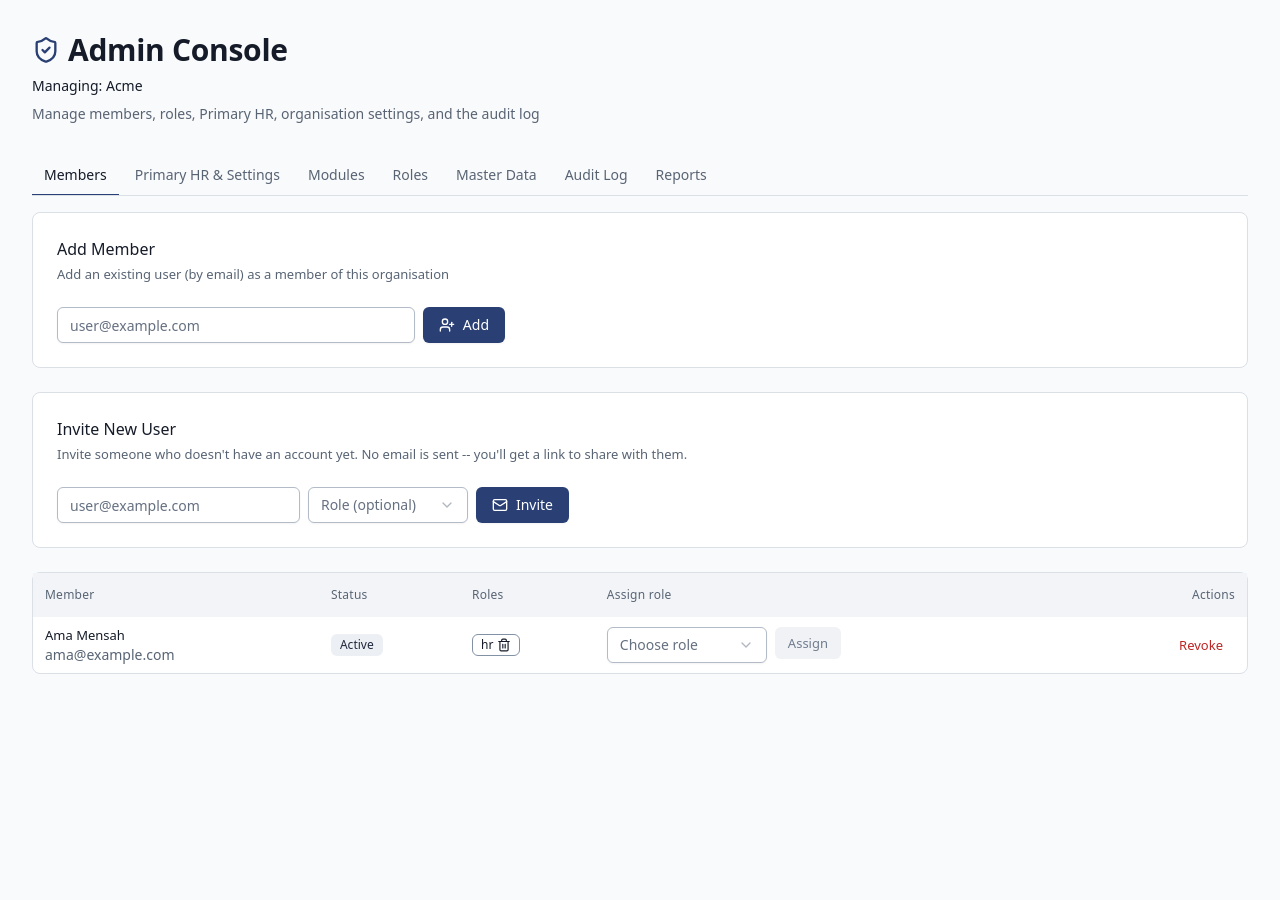
Test: Admin console — disabling a module › asks before disabling, runs nothing on Cancel, and disables exactly once on confirm
The width and height of the screenshot is (1280, 900).
Click the tab with test id "tab-modules": x=336, y=176 [296, 156, 377, 196]
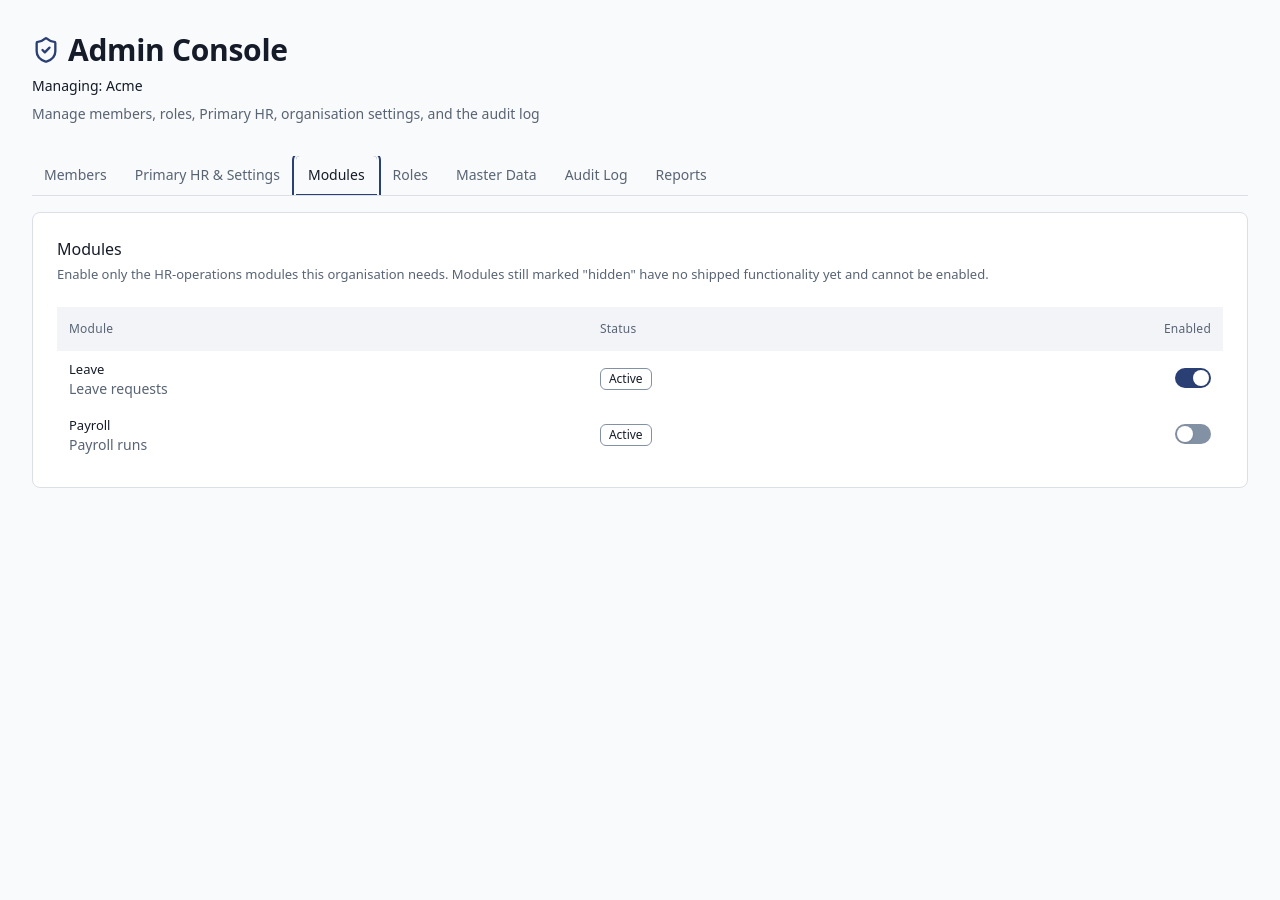
Click the switch with test id "switch-module-leave": x=1193, y=378 [1175, 368, 1211, 388]
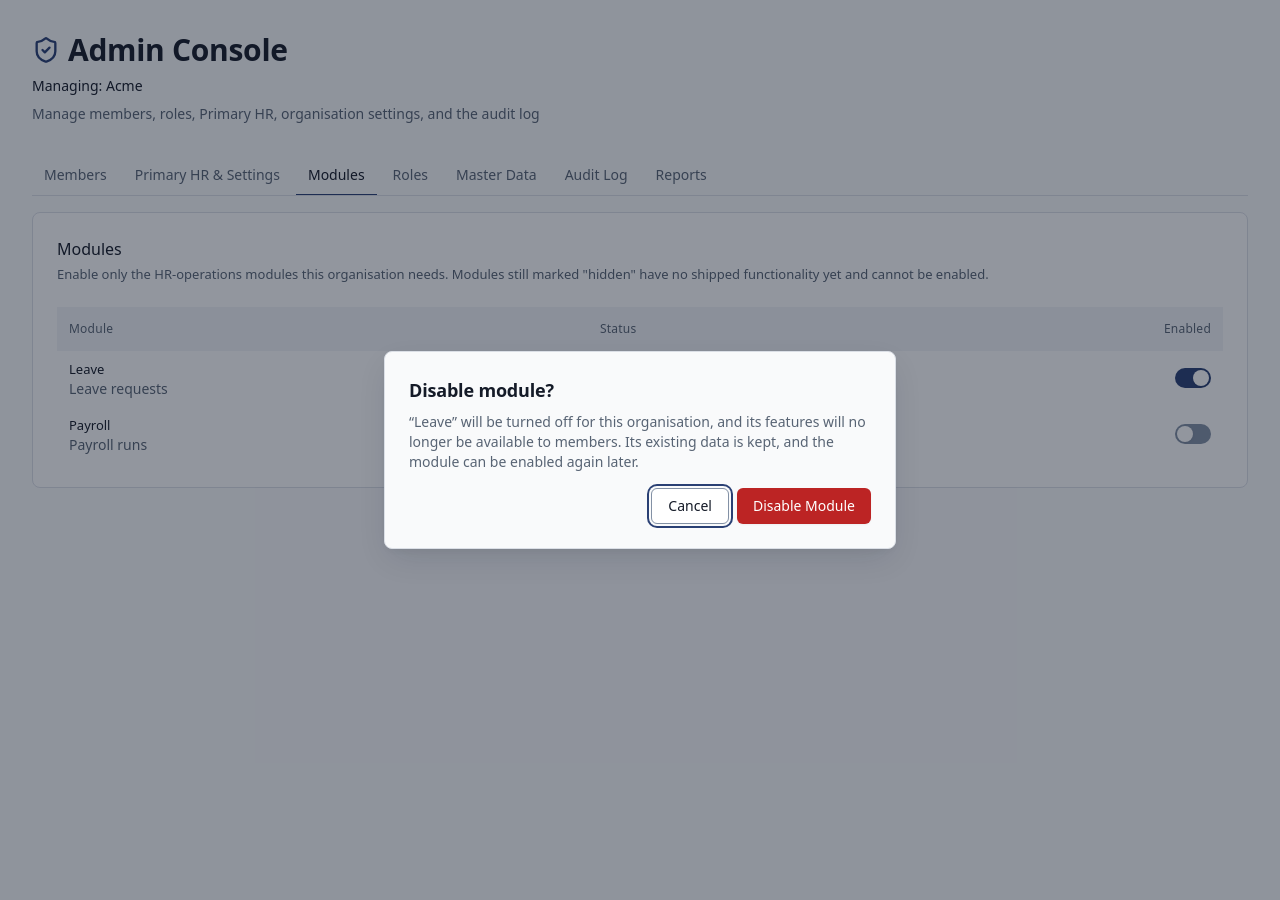
Result: the dialog with test id "dialog-disable-module" shows "Disable module?" at [409, 378, 554, 402]
Result: the dialog with test id "dialog-disable-module" shows "“Leave” will be turned off for this organisation" at [384, 351, 896, 549]
Result: the dialog with test id "dialog-disable-module" shows "Its existing data is kept" at [409, 412, 866, 471]
Click the button "Cancel": x=690, y=506 [651, 488, 729, 524]
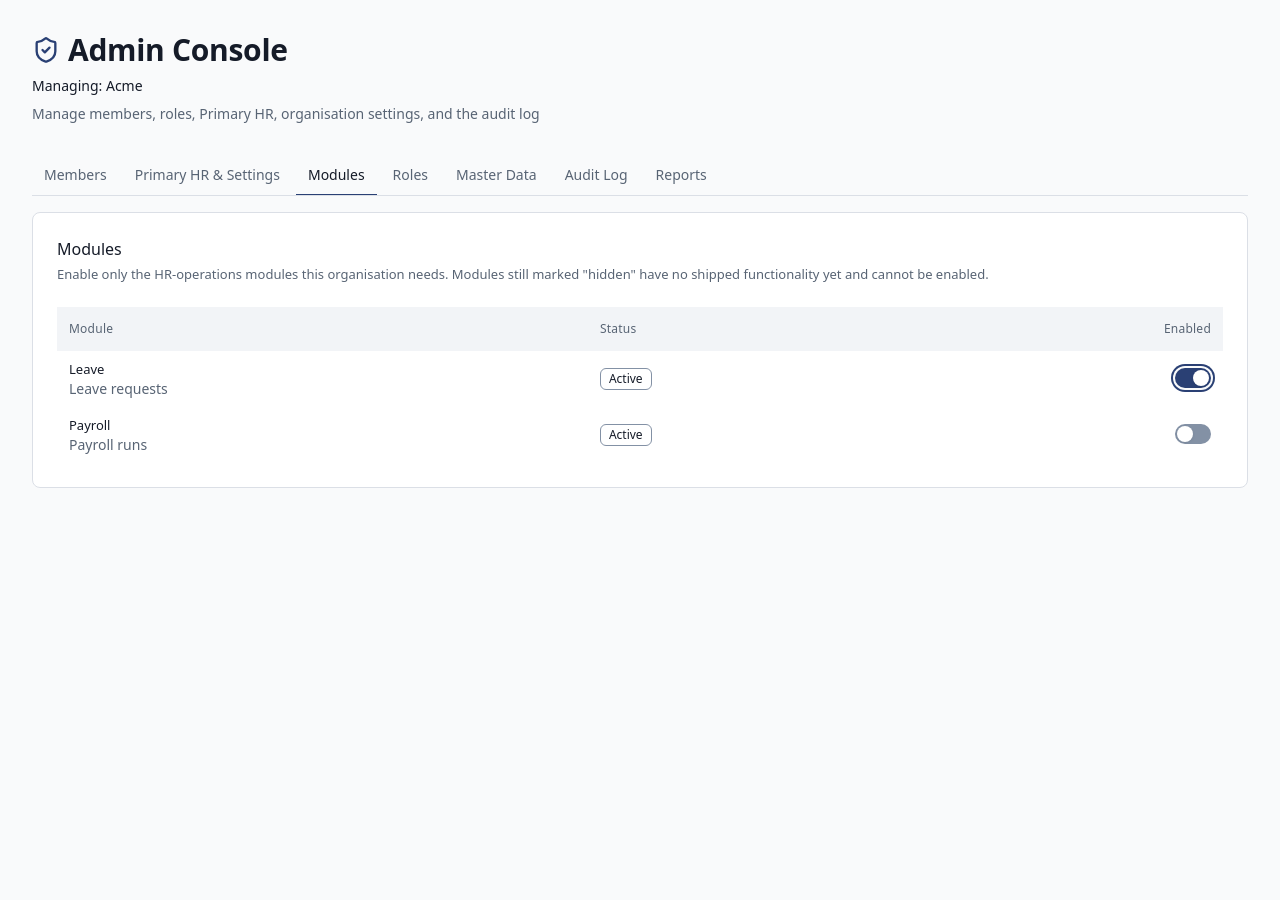
Result: the dialog with test id "dialog-disable-module" is gone
Click the switch with test id "switch-module-leave": x=1193, y=378 [1175, 368, 1211, 388]
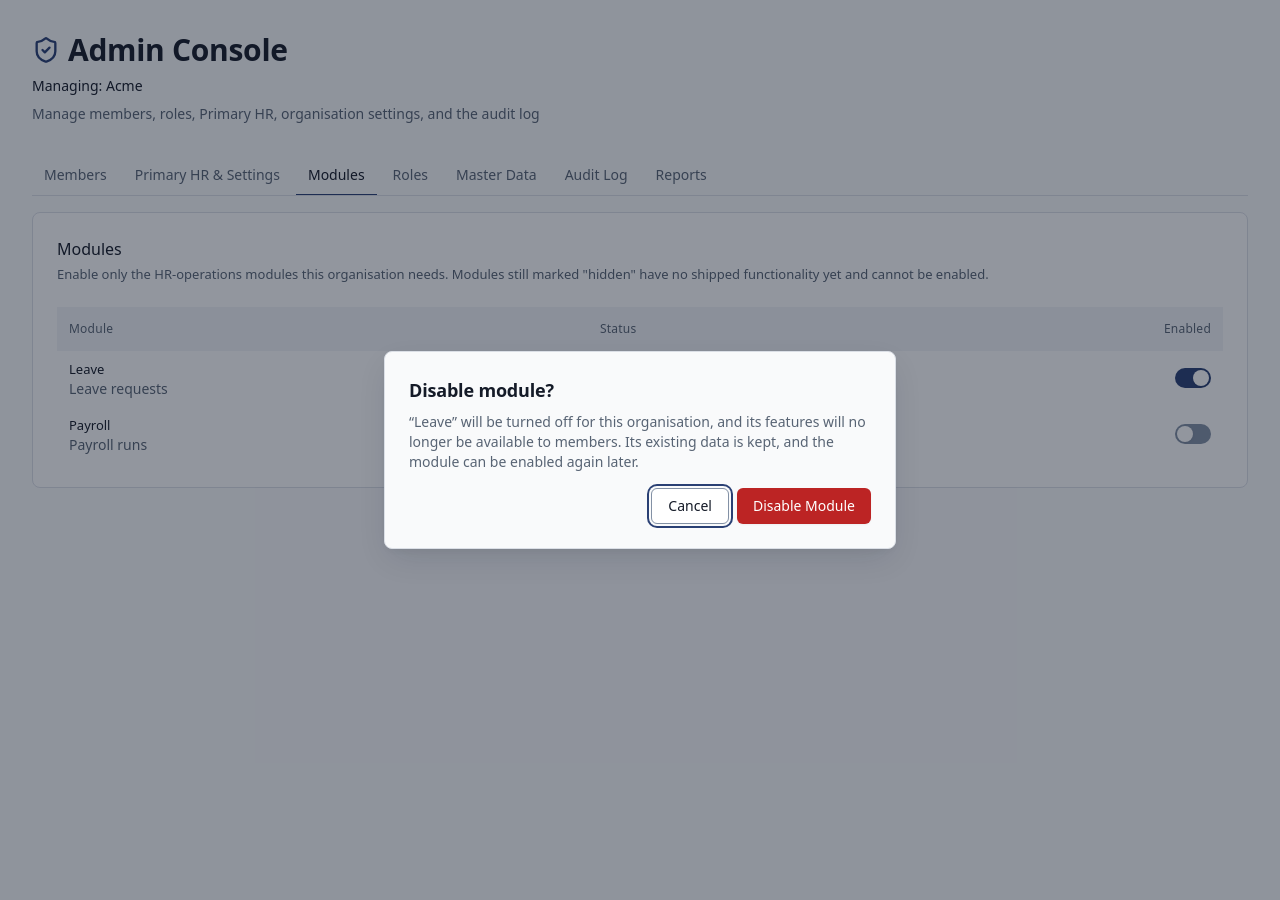
Click the button "Disable Module": x=804, y=506 [737, 488, 871, 524]
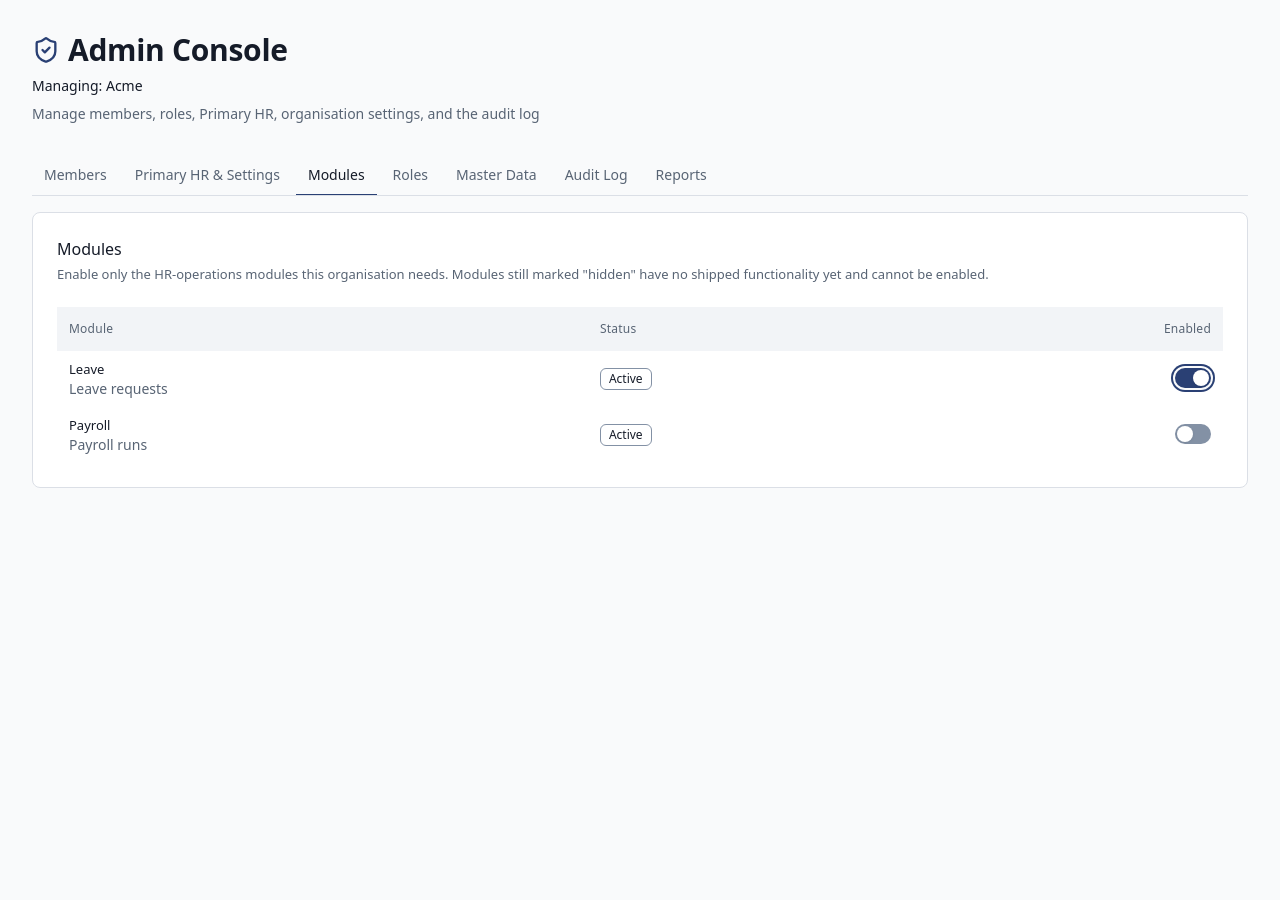
Result: the dialog with test id "dialog-disable-module" is gone
